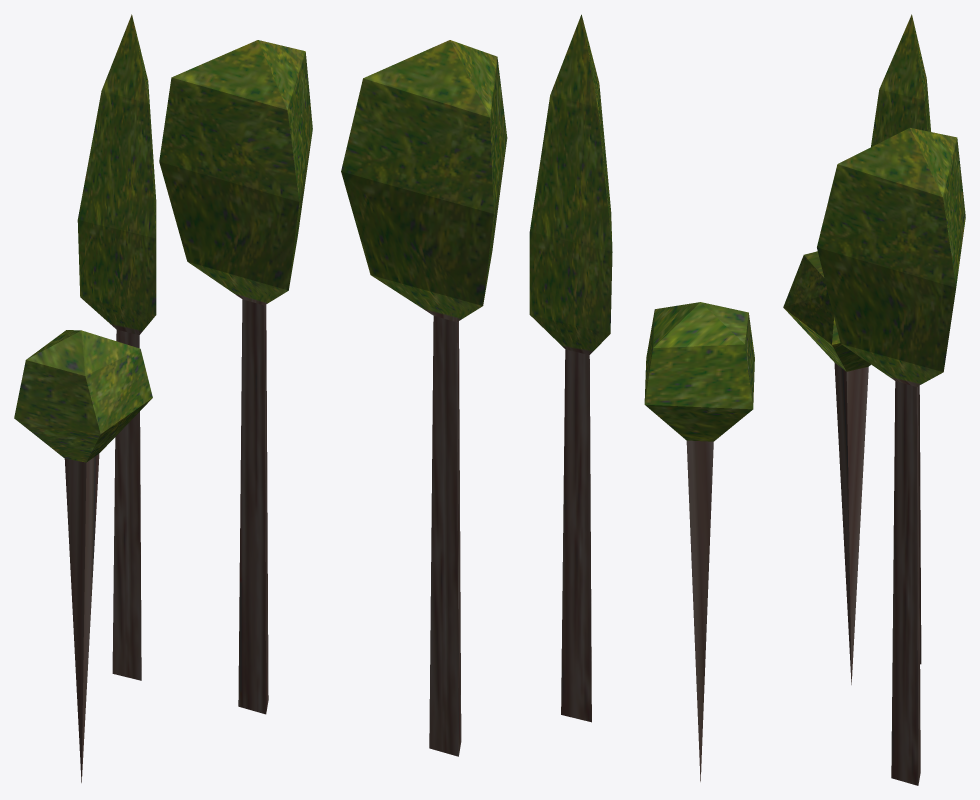
The model's file is mtree1b.obj.
3 renders of one model, left to right at view 1: azimuth 30°, elevation 25°; view 2: azimuth 150°, elevation 25°; view 3: azimuth 270°, elevation 25°, orthographic. The views are drawn at different scales.
Parts seen in each view (by area): view 1: mtree1; view 2: mtree1; view 3: mtree1.
Part boxes in pixels (left/top/right/bottom): mtree1: left=14, top=14, right=312, bottom=782; mtree1: left=341, top=14, right=754, bottom=781; mtree1: left=783, top=14, right=965, bottom=785.
Size of the model in its own units: 4.2 by 8.52 by 1.98.
